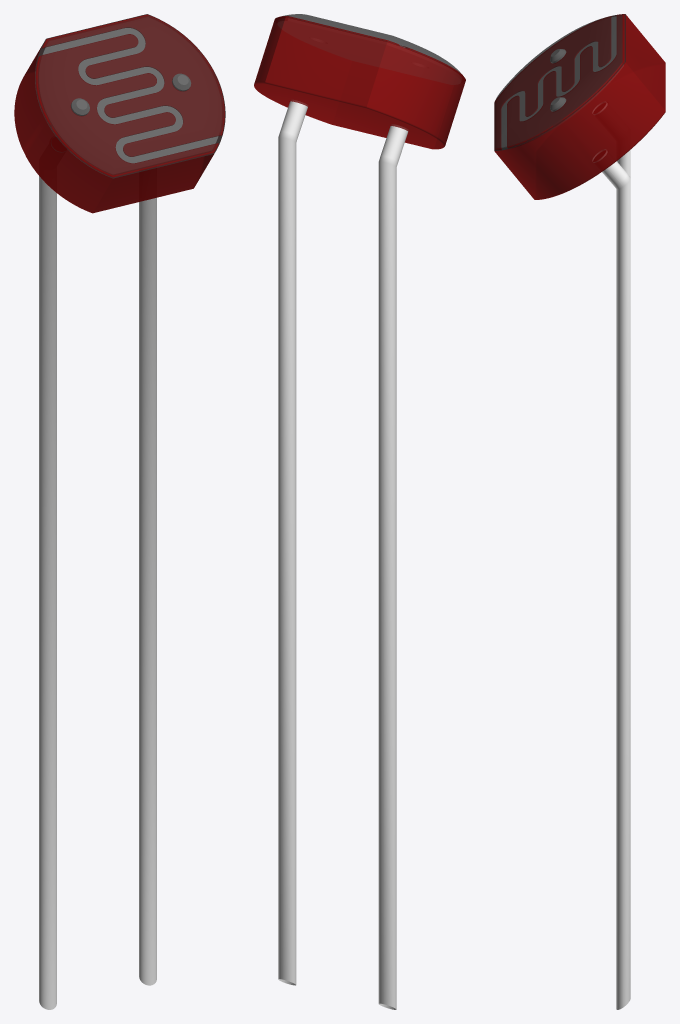
The model's file is 28. PHOTORES.gltf.
3 renders of one model, left to right at view 1: azimuth 30°, elevation 25°; view 2: azimuth 150°, elevation 25°; view 3: azimuth 270°, elevation 25°, orthographic. The views are drawn at different scales.
Parts seen in each view (by area): view 1: metal_aluminio-material.003; view 2: metal_aluminio-material.003; view 3: metal_aluminio-material.003.
Part boxes in pixels (box(x1,y1,x2,y2)): metal_aluminio-material.003: box(14, 14, 225, 1009); metal_aluminio-material.003: box(254, 14, 465, 1009); metal_aluminio-material.003: box(494, 14, 665, 1009).
Bounding box in the file's own units: 0.00524 × 0.0282 × 0.00462.
